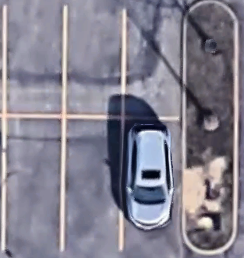Occupied: (121, 120, 183, 250)
Vacant: (4, 116, 63, 251), (64, 117, 122, 251), (124, 4, 185, 120), (65, 4, 124, 118), (5, 4, 64, 116)
